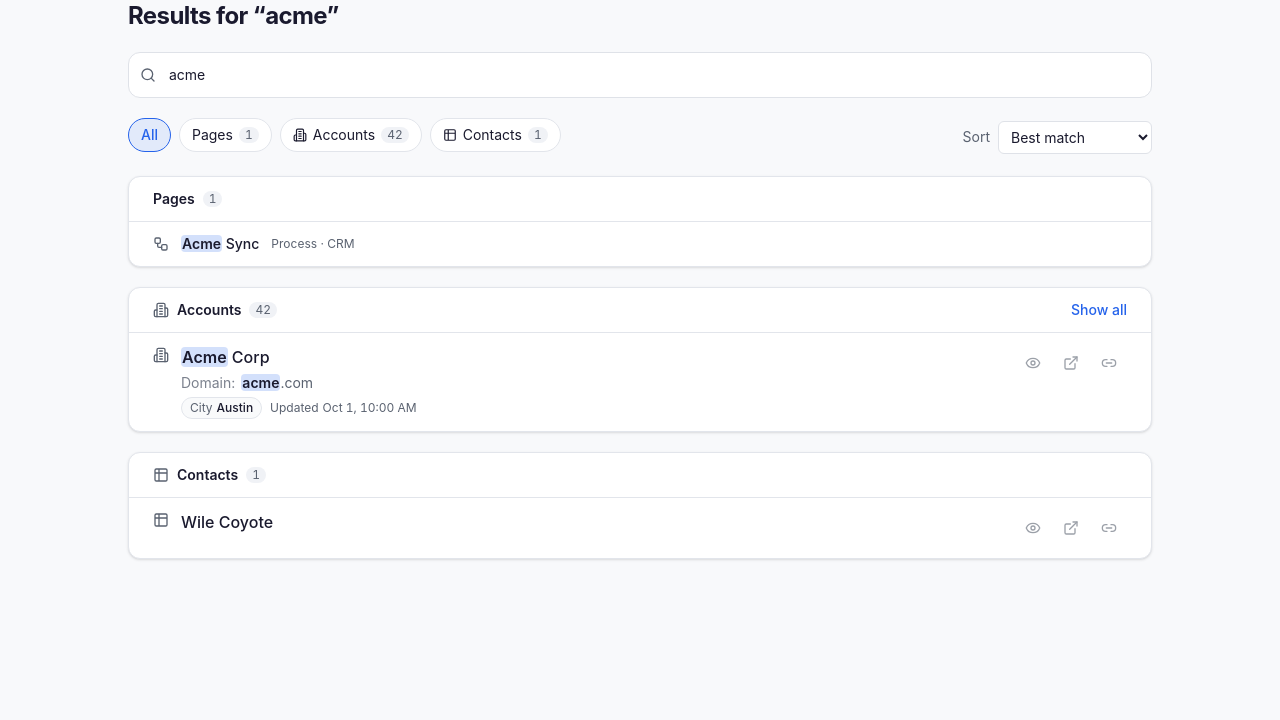
SearchPage › narrow screens open the preview in a side sheet from the Preview button
This screenshot has width=1280, height=720.
Click the button named "Preview Acme Corp": (1033, 363) [1015,345,1051,381]
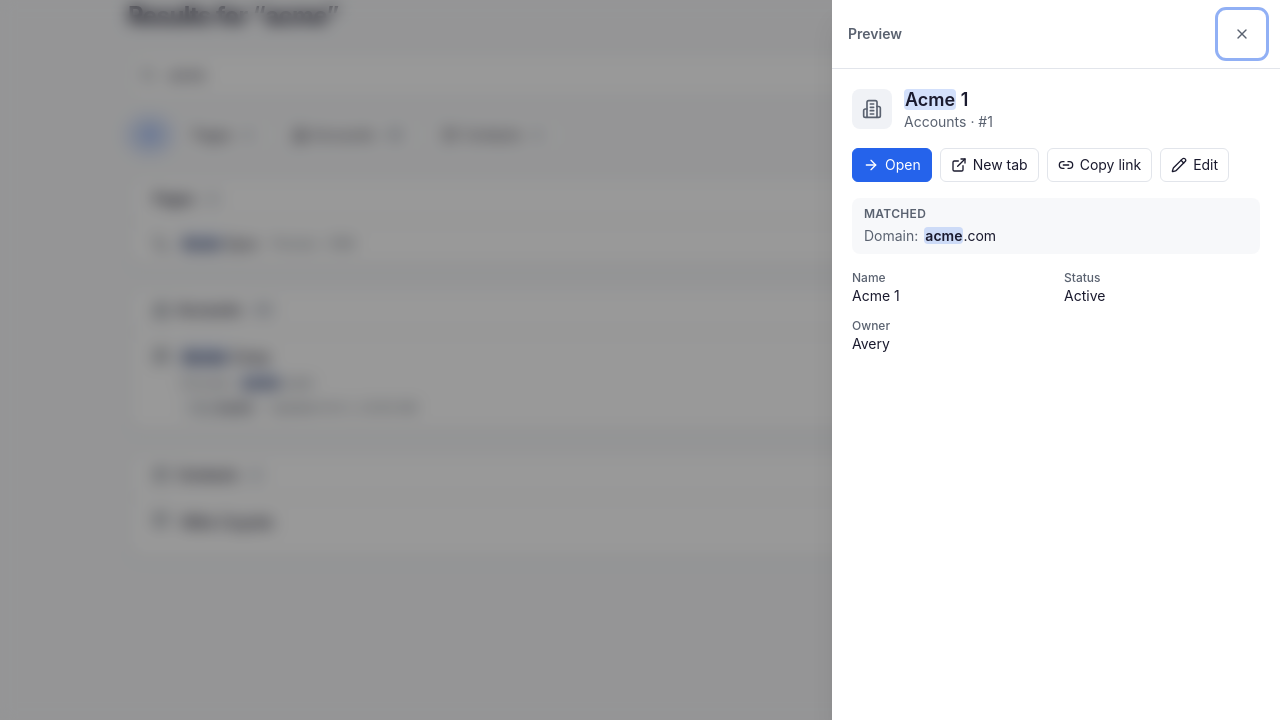
Check: the text "Owner" is shown, box [852,318,890,332]
Click the button named "Close preview": (1242, 34) [1220,12,1264,56]
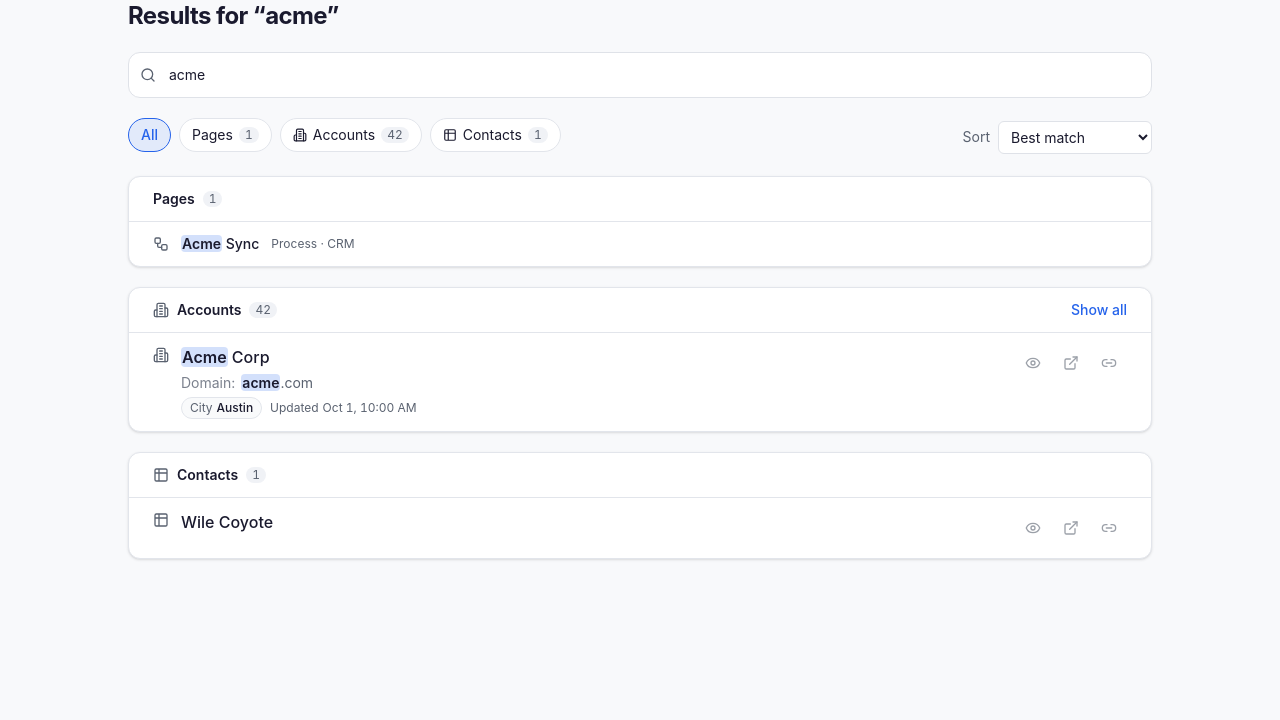
Check: the heading "Preview" is gone
